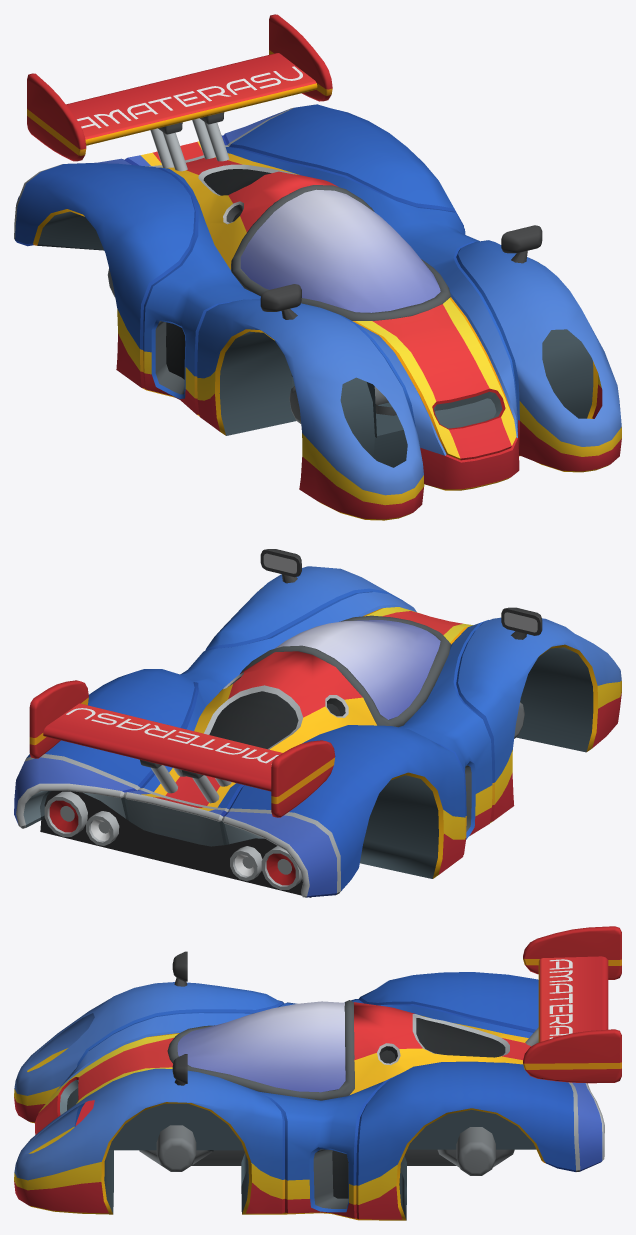
The model's file is Car_10.fbx.
3 renders of one model, top to bottom at view 1: azimuth 30°, elevation 25°; view 2: azimuth 150°, elevation 25°; view 3: azimuth 270°, elevation 25°, orthographic. The views are drawn at different scales.
Parts seen in each view (by area): view 1: Car_10; view 2: Car_10; view 3: Car_10.
Boxes of the visible parts, left/top/right/bottom form: Car_10: left=14, top=14, right=621, bottom=520; Car_10: left=14, top=549, right=621, bottom=897; Car_10: left=14, top=926, right=621, bottom=1220.
Bounding box in the file's own units: 245 × 455 × 148.
